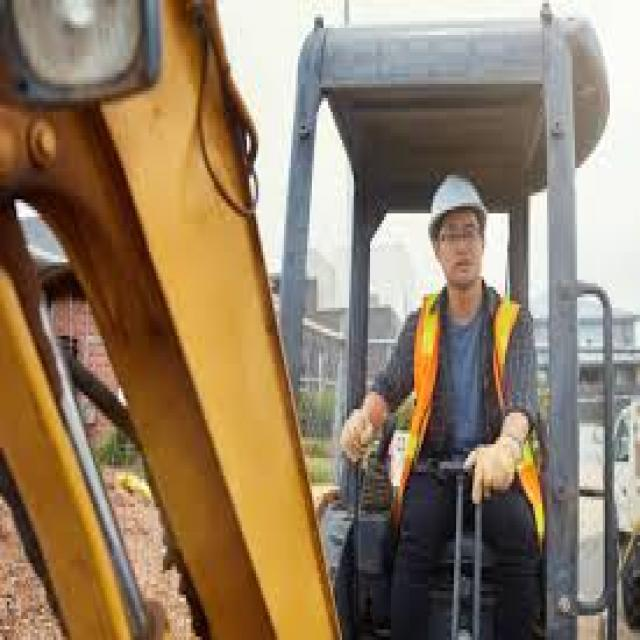Reflective-Jacket: (386, 279, 556, 532)
Safety-Helmet: (419, 161, 496, 241)
